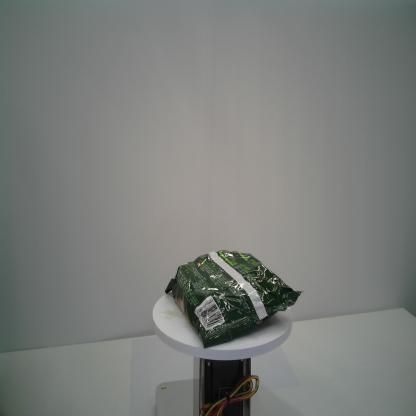Instant Noodles: (165, 250, 304, 350)
